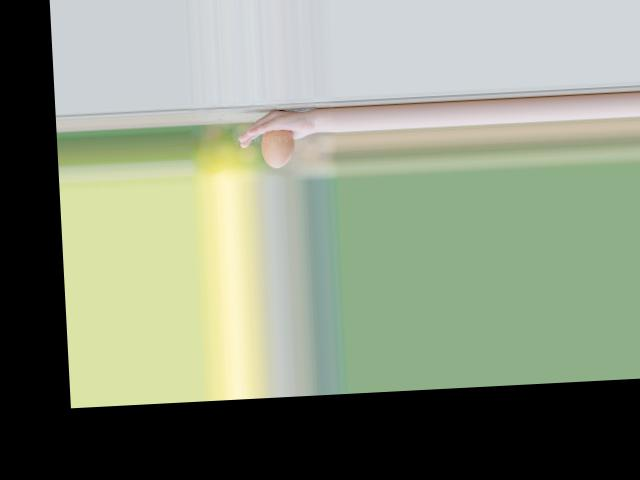egg: (261, 128, 296, 168)
